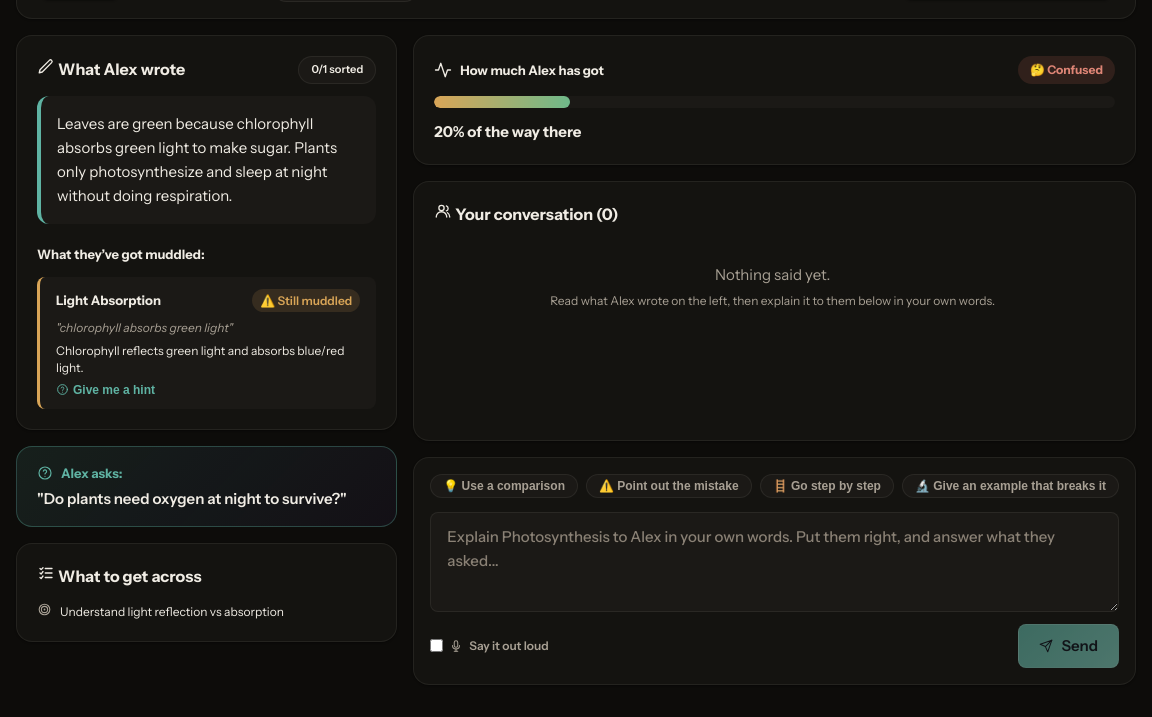
Test: FeynmanStudioView Component › toggles misconception hints when clicked
(page scrolled)
Click the button "Give me a hint" at (106, 390), box [56, 383, 155, 397]
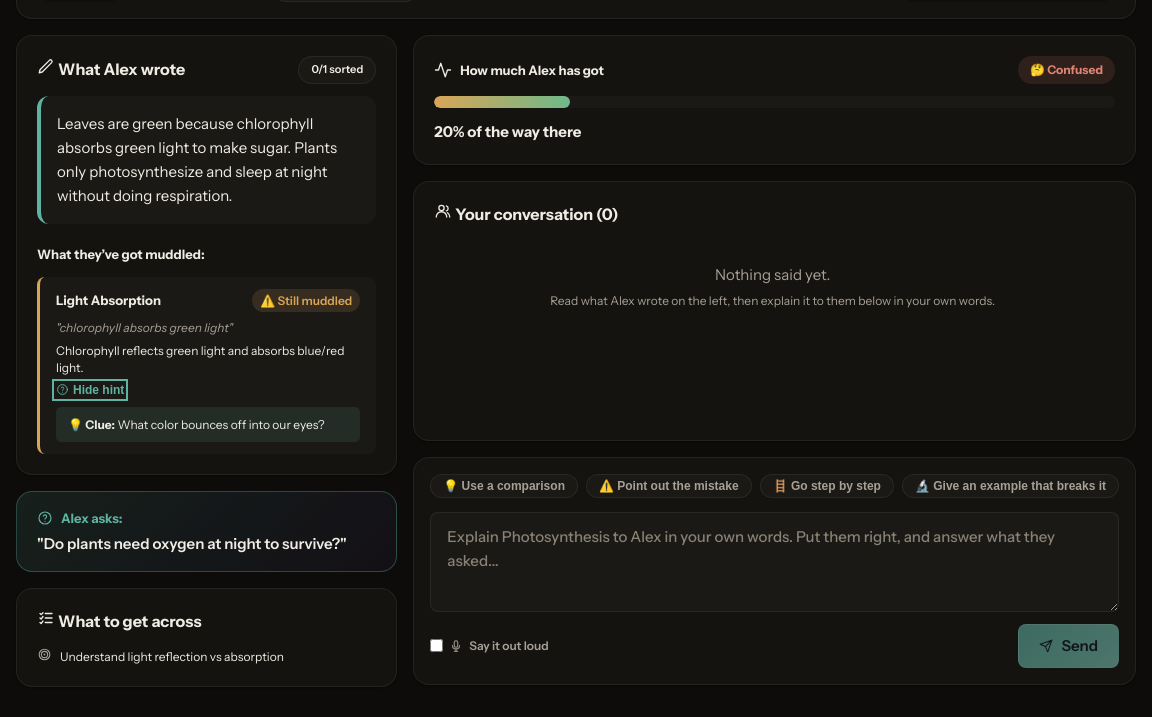
Expected: the element with test id "hint-misc-1" shows "What color bounces off into our eyes?", [117, 417, 325, 432]
